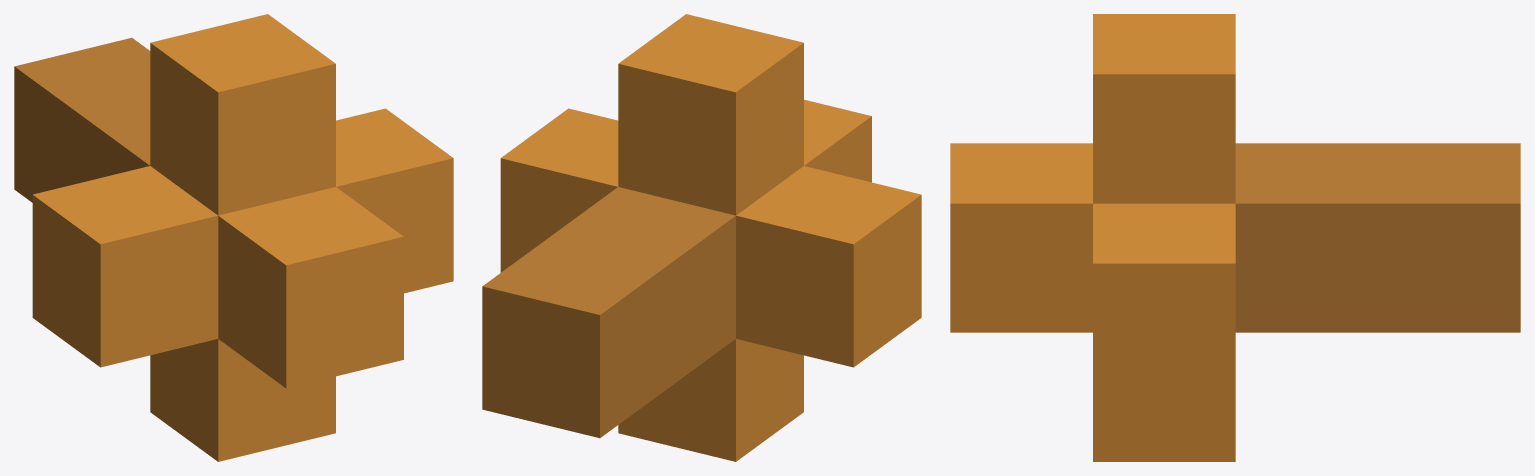
File: BulletRifle.obj
The picture shows the model from 3 angles, left to right: view 1: azimuth 30°, elevation 25°; view 2: azimuth 150°, elevation 25°; view 3: azimuth 270°, elevation 25°; orthographic projection. The views are drawn at different scales.
Bounding box in the file's own units: 0.3 × 0.3 × 0.4.
1 material, 1 textured.
